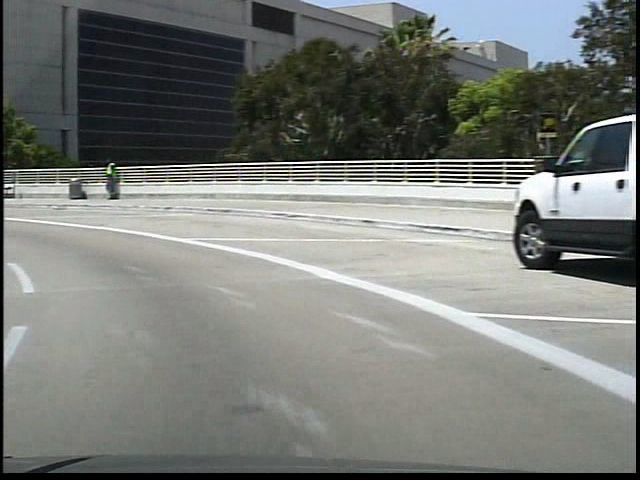person: (98, 154, 117, 202)
